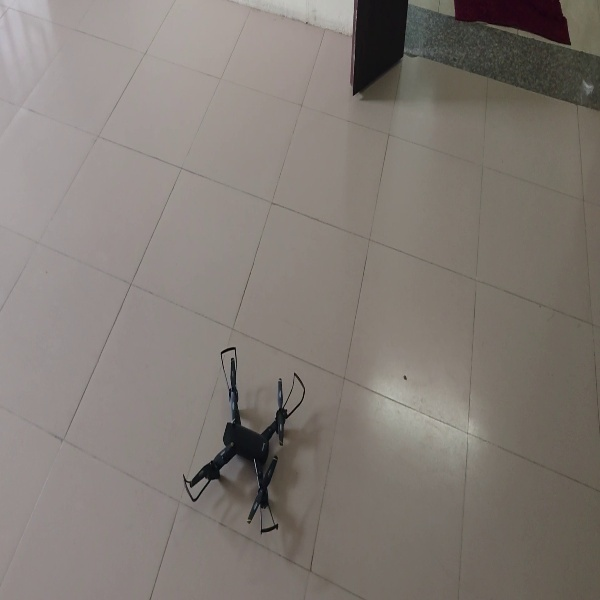drone: (179, 340, 312, 539)
